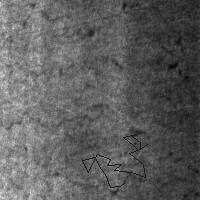crazing: (122, 41, 200, 199), (4, 83, 107, 198), (82, 133, 147, 187)
